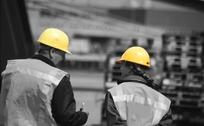helmet: (37, 28, 71, 53), (117, 47, 152, 67)
